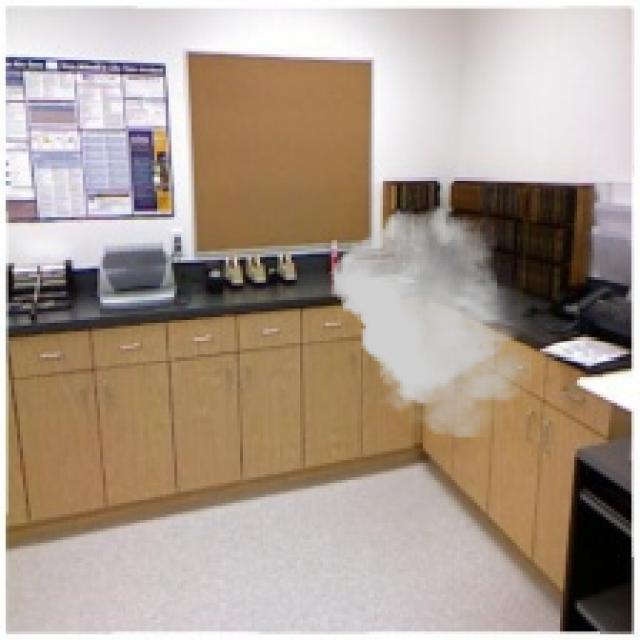Smoke: (332, 206, 532, 437)
